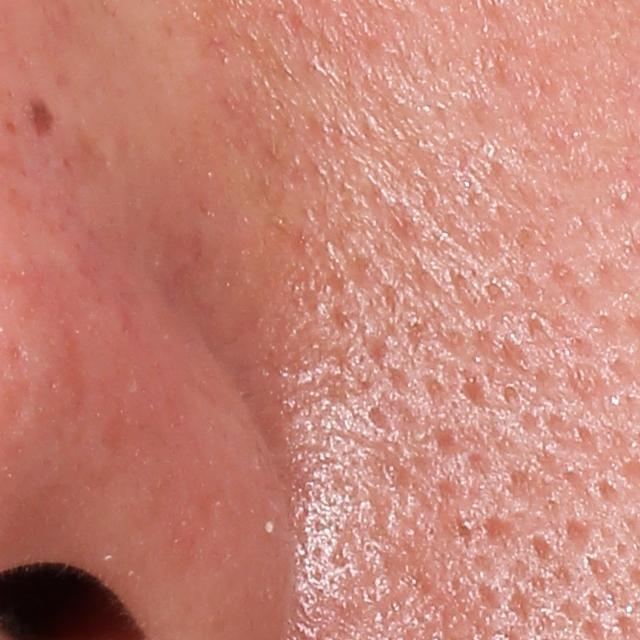nevus: (30, 91, 58, 141)
